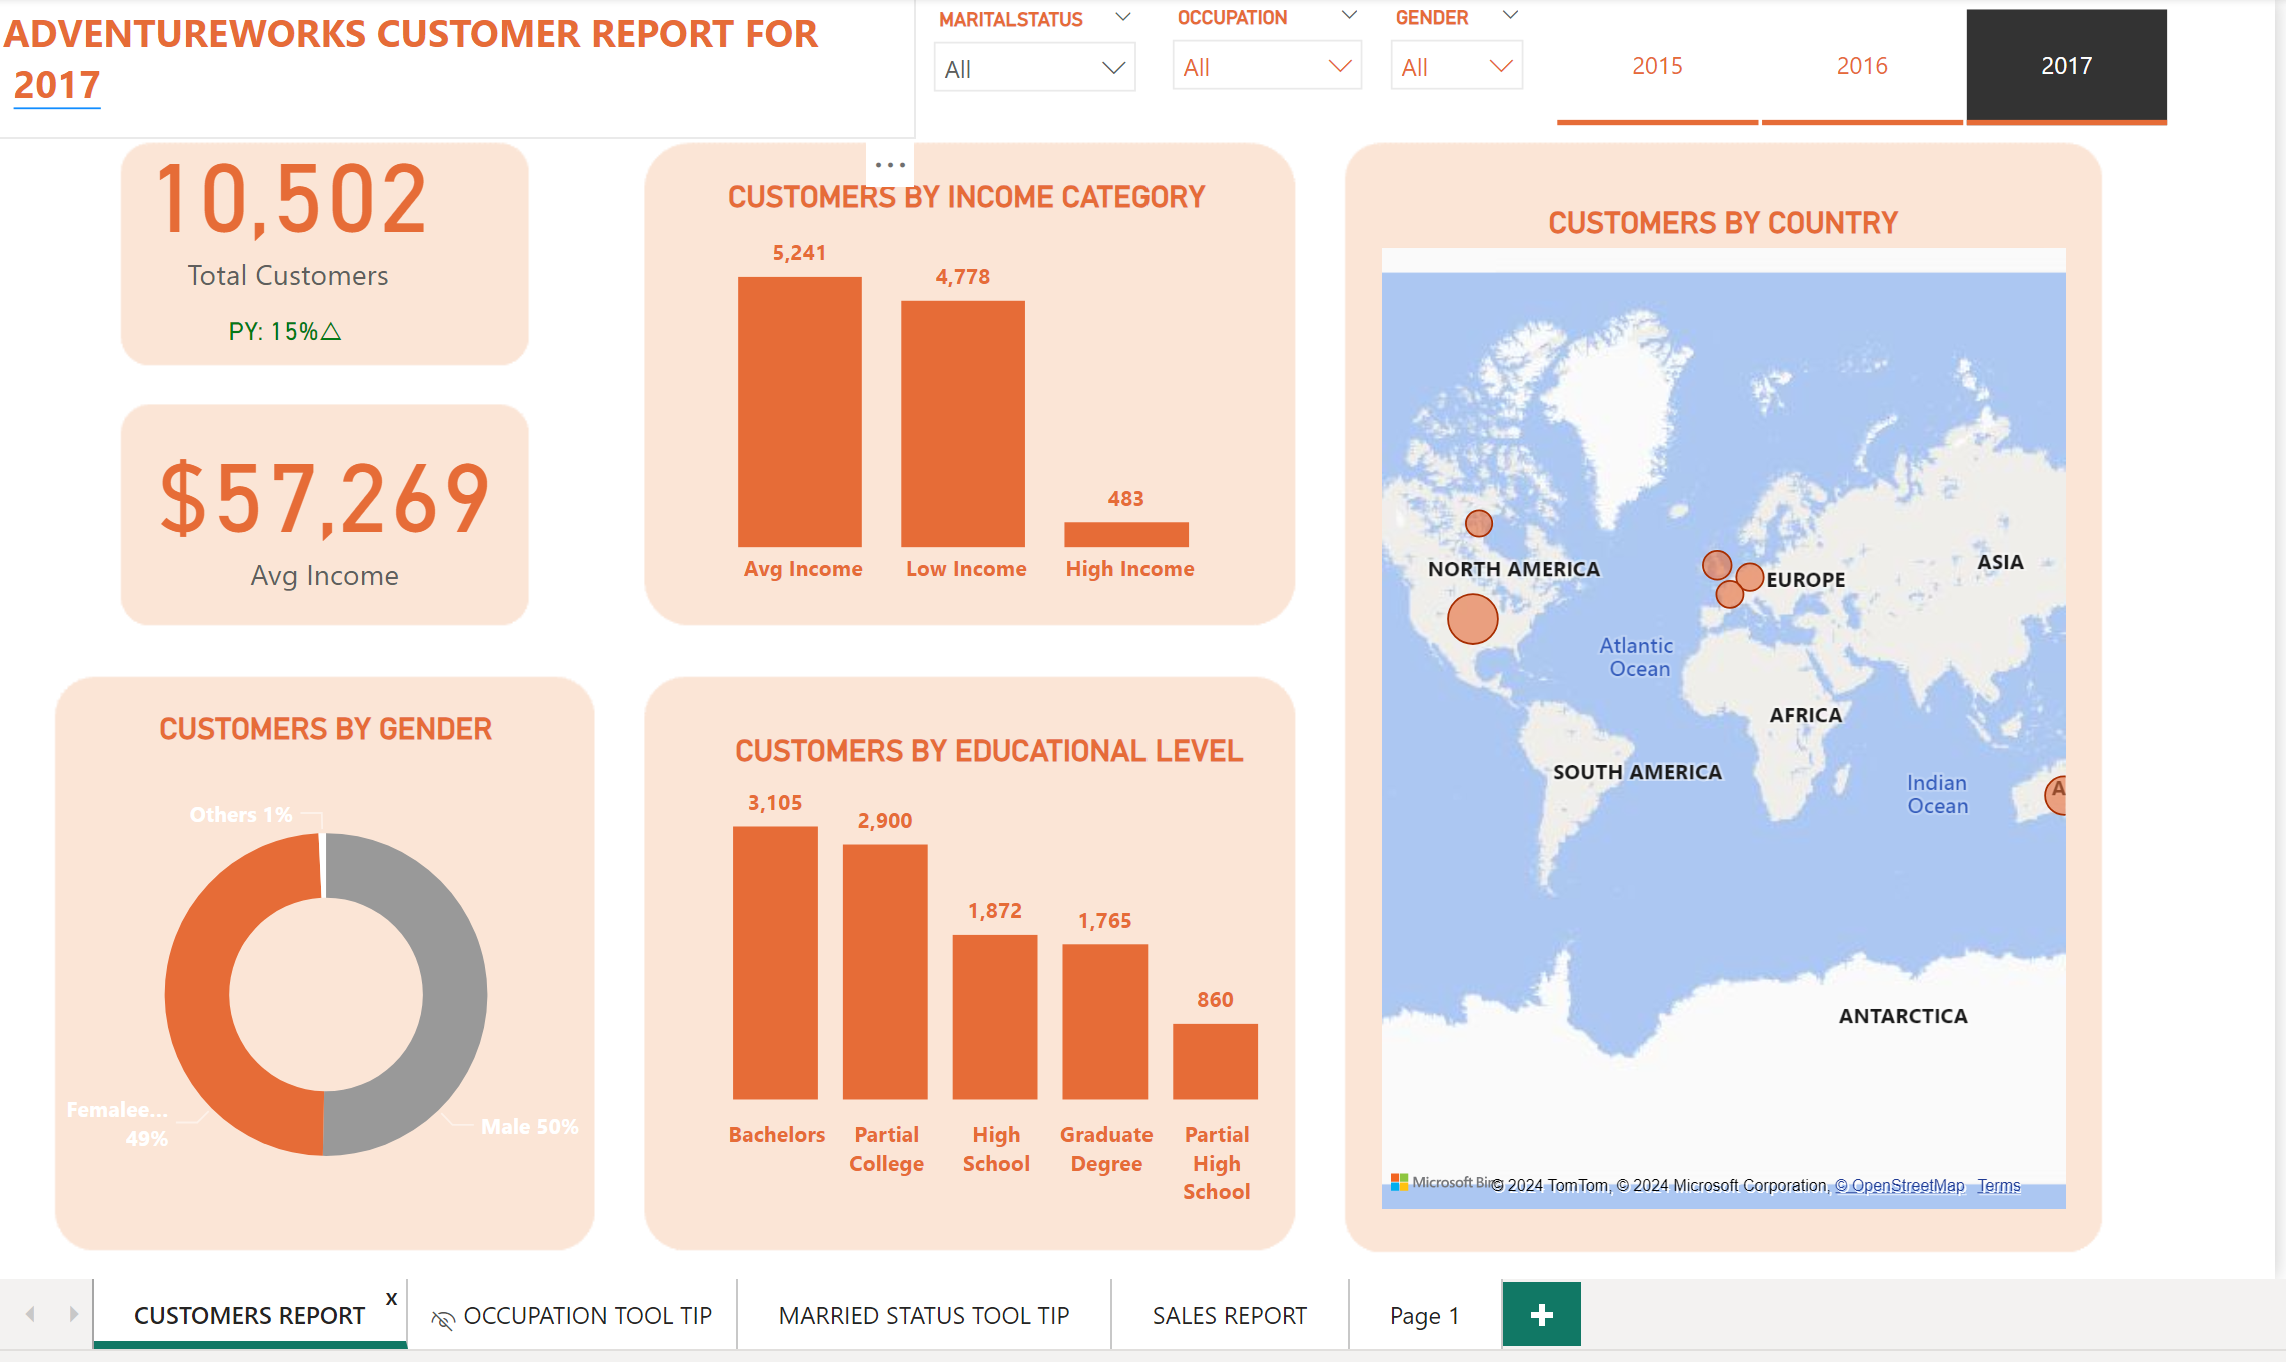

What the dashboard file says about the page in this screenshot:
{"tool":"powerbi","page":{"name":"CUSTOMERS REPORT","canvas":[1280,720],"ordinal":0},"visuals":[{"type":"card","fields":{"Values":["DAX Measures.Total Customers"]},"box":[56.1,54.8,218,123.7],"z":0},{"type":"card","fields":{"Values":["DAX Measures.Avg Income"]},"box":[79,232,214.2,105.8],"z":1000},{"type":"card","fields":{"Values":["DAX Measures.Customer Growth%"]},"box":[114.7,156.8,102,62.5],"z":2000},{"type":"map","title":"CUSTOMERS BY COUNTRY","fields":{"Category":["AdventureWorks_Territories.Country"],"Size":["DAX Measures.Total Customers"]},"box":[773.9,117.3,393.9,568.6],"z":3000},{"type":"columnChart","title":"CUSTOMERS BY INCOME CATEGORY","fields":{"Category":["AdventureWorks_Customers.IncomeSegment"],"Y":["DAX Measures.Total Customers"]},"box":[376.1,101.7,339.8,236.8],"z":4000},{"type":"slicer","fields":{"Values":["Calendar.Year"]},"box":[851.6,0,392.7,79],"z":5000},{"type":"columnChart","title":"CUSTOMERS BY EDUCATIONAL LEVEL","fields":{"Y":["DAX Measures.Total Customers"],"Category":["AdventureWorks_Customers.EducationalLevel"]},"box":[377.4,413.1,363.3,272.8],"z":6000},{"type":"donutChart","title":"CUSTOMERS BY GENDER","fields":{"Y":["DAX Measures.Total Customers"],"Category":["AdventureWorks_Customers.Gender"]},"box":[32,401.1,307.8,299.5],"z":7000},{"type":"slicer","fields":{"Values":["AdventureWorks_Customers.Gender"]},"box":[774.4,0,94.7,66.9],"z":8000},{"type":"slicer","fields":{"Values":["AdventureWorks_Customers.Occupation"]},"box":[651.8,0,126.7,66.9],"z":10000},{"type":"textbox","box":[0,0,518.1,79.4],"z":11000},{"type":"slicer","fields":{"Values":["AdventureWorks_Customers.MaritalStatus"]},"box":[518.1,1.4,133.7,78],"z":12000}]}

Visuals, with their boxes on the page's 1280x720 design canvas (x1, y1, x2, y2). These are canvas units, not pixel positions in the 2286x1362 screenshot, which may show the page scaled, cropped or inside an application window:
card - DAX Measures.Total Customers: (56,55,274,178)
card - DAX Measures.Avg Income: (79,232,293,338)
card - DAX Measures.Customer Growth%: (115,157,217,219)
"CUSTOMERS BY COUNTRY" map: (774,117,1168,686)
"CUSTOMERS BY INCOME CATEGORY" columnChart: (376,102,716,338)
slicer - Calendar.Year: (852,0,1244,79)
"CUSTOMERS BY EDUCATIONAL LEVEL" columnChart: (377,413,741,686)
"CUSTOMERS BY GENDER" donutChart: (32,401,340,701)
slicer - AdventureWorks_Customers.Gender: (774,0,869,67)
slicer - AdventureWorks_Customers.Occupation: (652,0,778,67)
textbox: (0,0,518,79)
slicer - AdventureWorks_Customers.MaritalStatus: (518,1,652,79)
